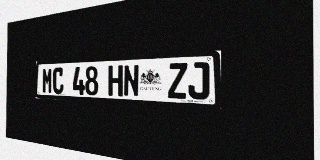4: (73, 66, 85, 95)
8: (85, 66, 98, 95)
C: (53, 67, 64, 94)
H: (108, 65, 123, 96)
J: (188, 62, 209, 100)
M: (42, 68, 53, 94)
N: (123, 64, 139, 97)
Z: (168, 63, 187, 99)
